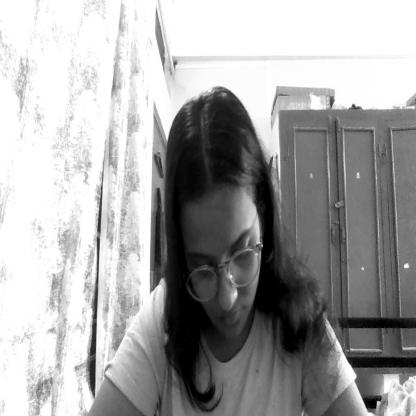Normal: (165, 91, 270, 340)
